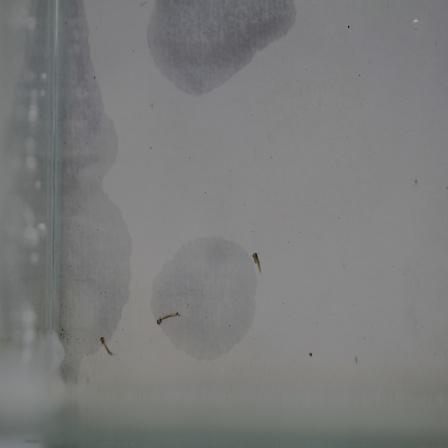Jentik-Nyamuk: (153, 309, 186, 331), (97, 332, 119, 361), (250, 248, 265, 277)
